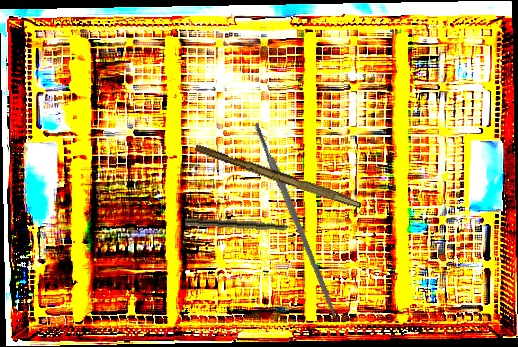Handpiece: (184, 217, 309, 234)
Scalpel Handle: (252, 120, 340, 319), (193, 143, 364, 209)
